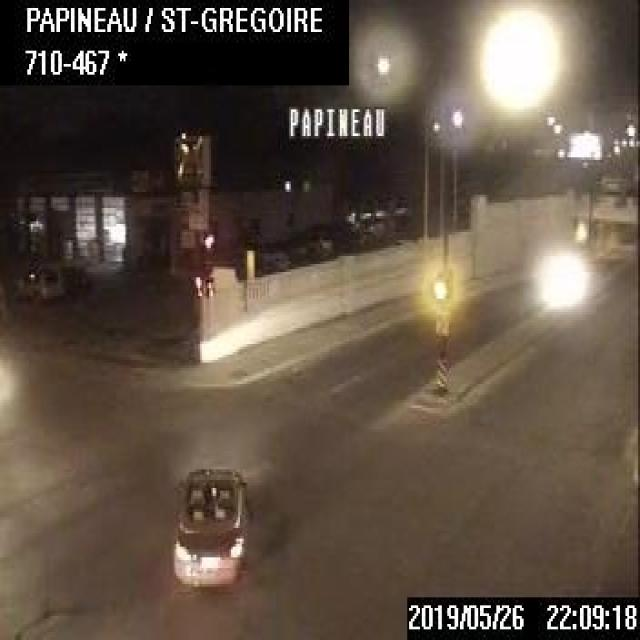vehicle: (169, 462, 246, 590)
